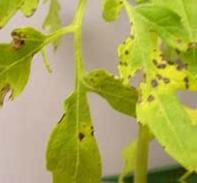Tomato leaf bacterial spot: (112, 4, 197, 176), (0, 23, 65, 143), (47, 81, 105, 183)
